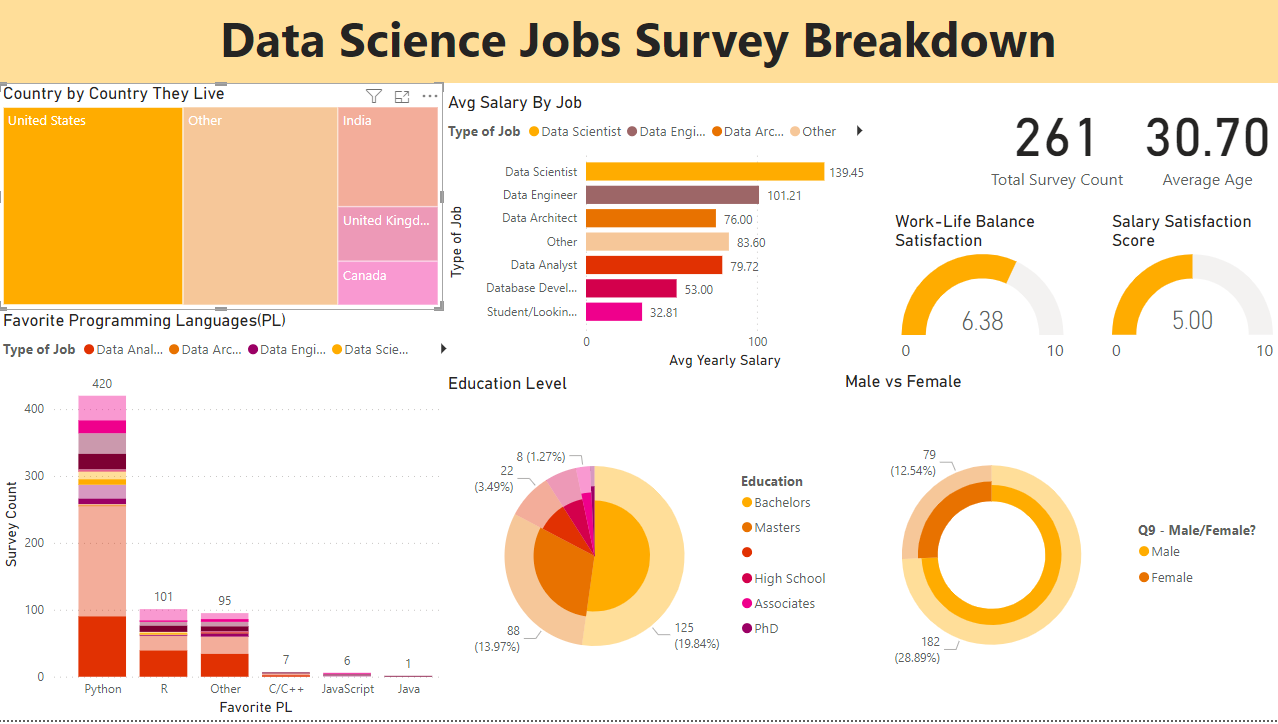

This screenshot's page, from the dashboard's own definition file:
{"tool":"powerbi","page":{"name":"Page 1","canvas":[1280,720],"ordinal":0},"visuals":[{"type":"textbox","box":[0,0,1280,83.2],"z":0},{"type":"card","fields":{"Values":["Count(Data Professional Survey.Unique ID)"]},"box":[978.7,84,159.9,111.7],"z":1000},{"type":"card","fields":{"Values":["Avg(Data Professional Survey.Q10 - Current Age)"]},"box":[1138.6,84,141.4,111.7],"z":2000},{"type":"barChart","title":"Avg Salary By Job","fields":{"Category":["Data Professional Survey.Q1 - Which Title Best Fits your Current Role?.1"],"Y":["Avg(Data Professional Survey.Average Salary)"],"Series":["Data Professional Survey.Q1 - Which Title Best Fits your Current Role?.1"]},"box":[444.8,92.5,436.6,280.4],"z":3000},{"type":"columnChart","title":"Favorite Programming Languages(PL)","fields":{"Category":["Data Professional Survey.Q5 - Favorite Programming Language.1"],"Y":["Count(Data Professional Survey.Unique ID)"],"Series":["Data Professional Survey.Q1 - Which Title Best Fits your Current Role?.1"]},"box":[0,310.2,465.4,409.9],"z":4000},{"type":"treemap","fields":{"Group":["Data Professional Survey.Q11 - Which Country do you live in?.1"],"Values":["CountNonNull(Data Professional Survey.Q11 - Which Country do you live in?.1)"]},"box":[0,83.2,444.8,227],"z":5000},{"type":"donutChart","title":"Male vs Female","fields":{"Y":["CountNonNull(Data Professional Survey.Q9 - Male/Female?)"],"Category":["Data Professional Survey.Q9 - Male/Female?","Data Professional Survey.Q11 - Which Country do you live in?.1"]},"box":[842.4,370.9,437.6,349.3],"z":6000},{"type":"gauge","title":"Salary Satisfaction Score","fields":{"Y":["Avg(Data Professional Survey.Q6 - How Happy are you in your Current Position with the following? (Salary))"],"MinValue":["Min(Data Professional Survey.Q6 - How Happy are you in your Current Position with the following? (Salary))"],"MaxValue":["Max(Data Professional Survey.Q6 - How Happy are you in your Current Position with the following? (Salary))"]},"box":[1109.5,210.6,170.5,160.3],"z":7000},{"type":"gauge","title":"Work-Life Balance Satisfaction","fields":{"Y":["Avg(Data Professional Survey.Q6 - How Happy are you in your Current Position with the following? (Work/Life Balance))"],"MinValue":["Min(Data Professional Survey.Q6 - How Happy are you in your Current Position with the following? (Work/Life Balance))"],"MaxValue":["Max(Data Professional Survey.Q6 - How Happy are you in your Current Position with the following? (Work/Life Balance))"]},"box":[891.7,210.6,184.9,160.3],"z":8000},{"type":"pieChart","title":"Education Level","fields":{"Y":["CountNonNull(Data Professional Survey.Q12 - Highest Level of Education)"],"Category":["Data Professional Survey.Q12 - Highest Level of Education"]},"box":[444.8,372.9,397.6,347.2],"z":9000}]}

Visuals, with their boxes in screenshot pixels (x1, y1, x2, y2), scaled from the page's 1280x720 canvas onto the 1278x724 screenshot:
textbox: 0,0,1277,84
card - Count(Data Professional Survey.Unique ID): 977,84,1137,197
card - Avg(Data Professional Survey.Q10 - Current Age): 1137,84,1277,197
"Avg Salary By Job" barChart: 444,93,880,375
"Favorite Programming Languages(PL)" columnChart: 0,312,465,723
treemap - Data Professional Survey.Q11 - Which Country do you live in?.1 x CountNonNull(Data Professional Survey.Q11 - Which Country do you live in?.1): 0,84,444,312
"Male vs Female" donutChart: 841,373,1277,723
"Salary Satisfaction Score" gauge: 1108,212,1277,373
"Work-Life Balance Satisfaction" gauge: 890,212,1075,373
"Education Level" pieChart: 444,375,841,723
